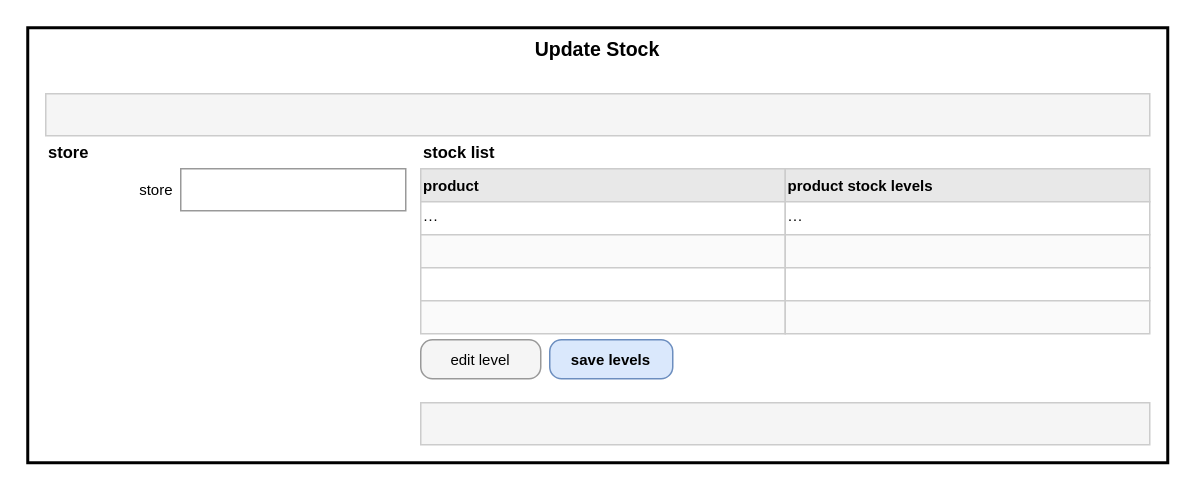
Some shapes in this 1194 by 489 pixel diagram are drawn without their labels. Each missing label, with the centre of its shape:
employee header · store · Sign out: (597,114)
validation error area: (784,423)
